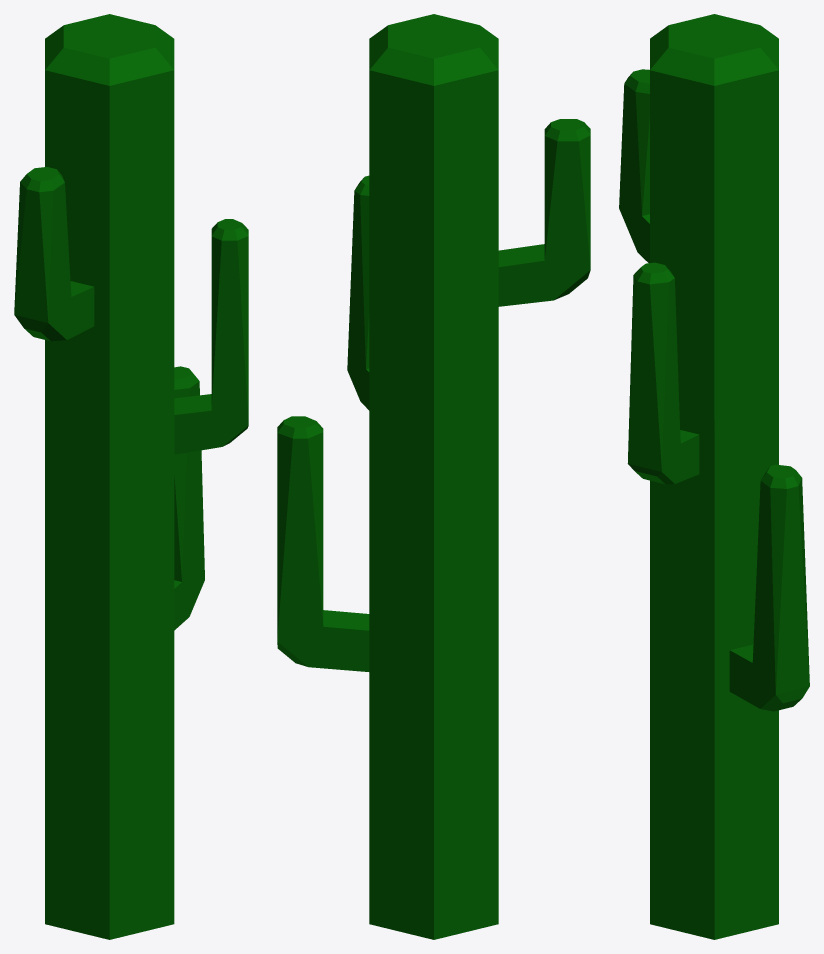
Rendered from Vegetation_New_Cactus_Geometric_02.FBX.
3 views of the same model, side by side, from view 1: azimuth 30°, elevation 25°; view 2: azimuth 150°, elevation 25°; view 3: azimuth 270°, elevation 25° (orthographic).
Parts seen in each view (by area): view 1: Vegetation_New_Cactus_Geometric_02; view 2: Vegetation_New_Cactus_Geometric_02; view 3: Vegetation_New_Cactus_Geometric_02.
Boxes of the visible parts, <box> form: Vegetation_New_Cactus_Geometric_02: <box>14,14,248,939</box>; Vegetation_New_Cactus_Geometric_02: <box>277,14,590,939</box>; Vegetation_New_Cactus_Geometric_02: <box>619,14,809,939</box>.
Size of the model in its own units: 1021 by 3375 by 670.
